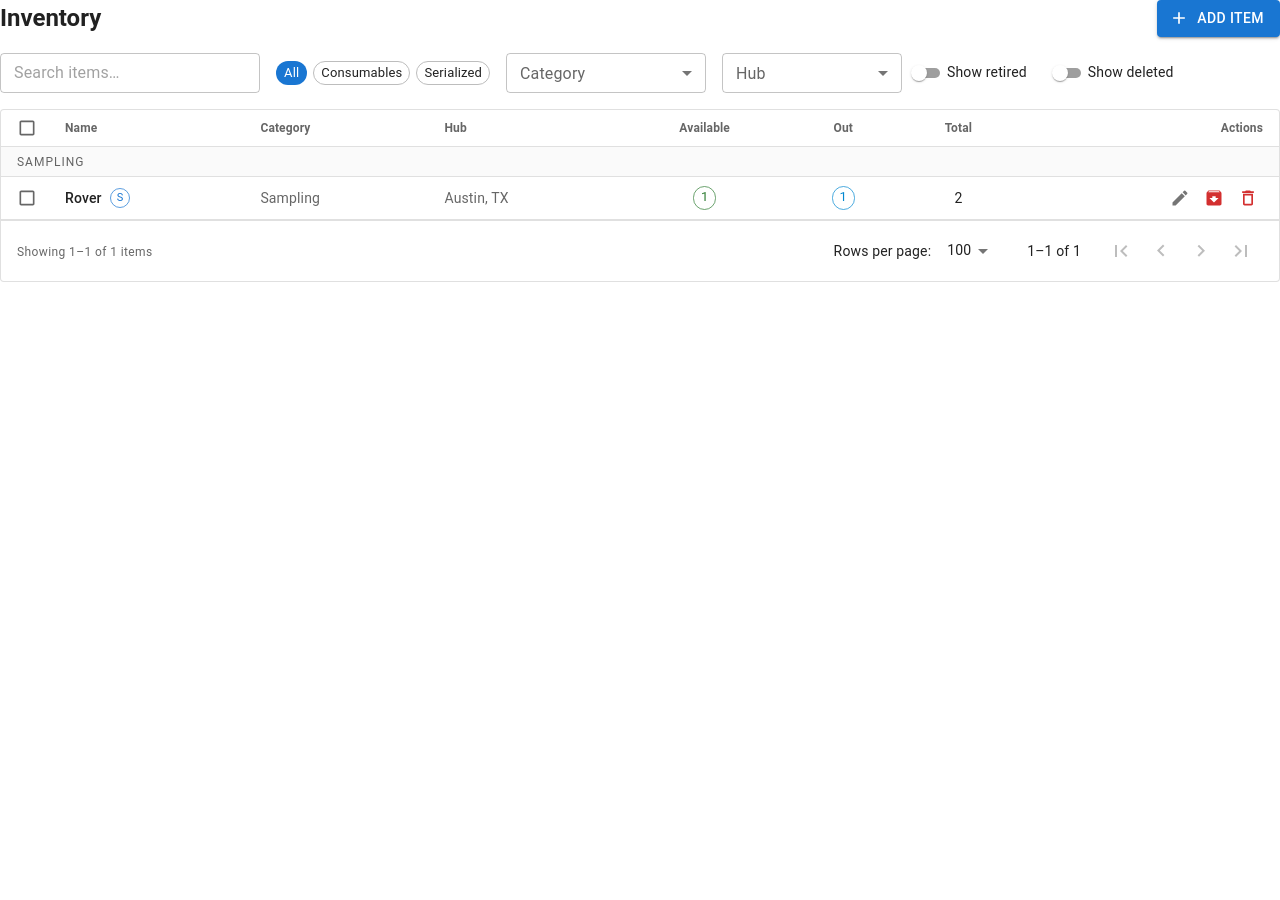
Test: item retire (D-a · the BF-1 flow) › row Retire → confirm copy → PATCH {status: RETIRED} → refetch without includeRetired → toast
Check: the text "Rover" is shown, box [65,188,102,208]
Click the button named "Retire": (1214,198) [1199,183,1229,213]
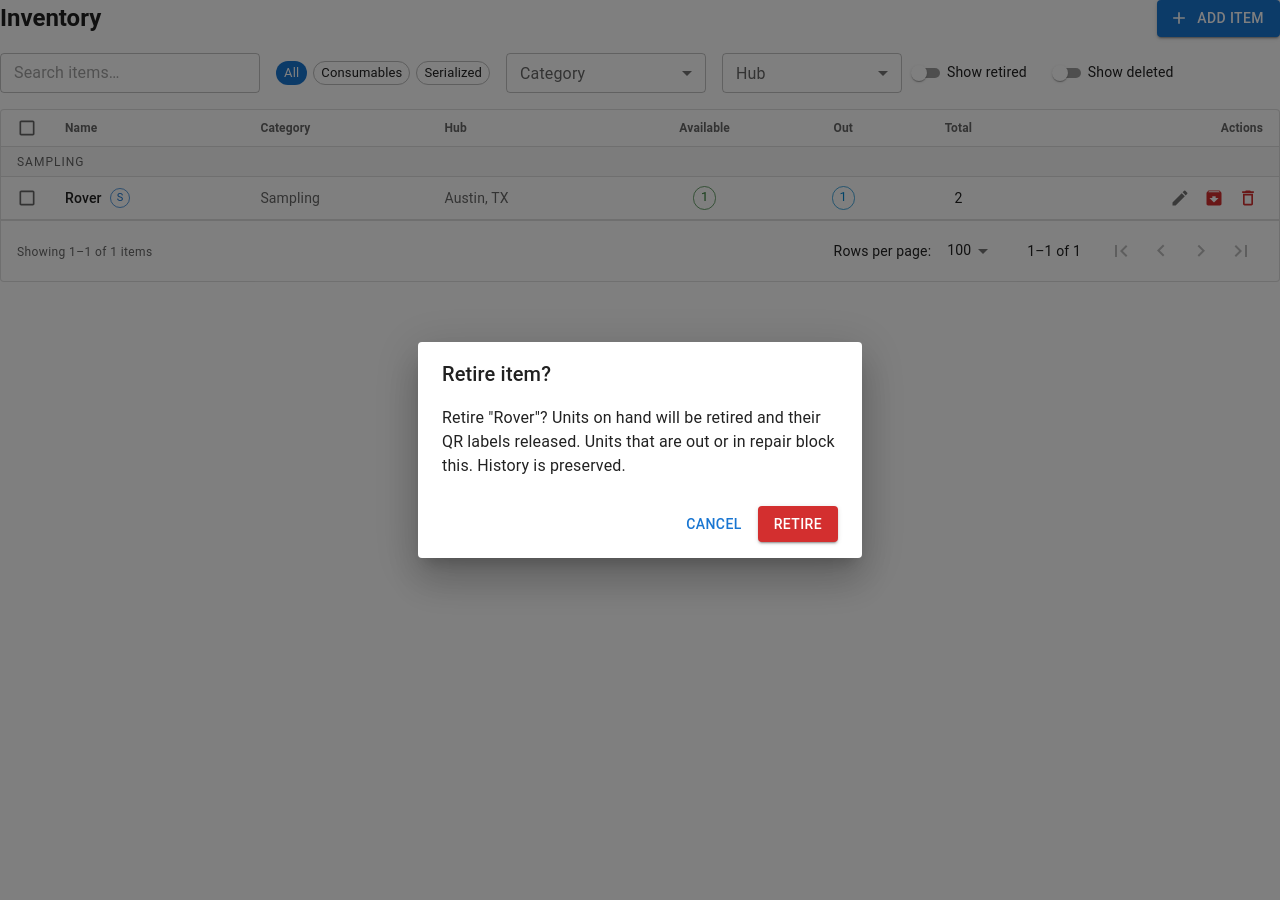
Check: the dialog "Retire item?" shows "Retire \"Rover\"? Units on hand will be retired and their QR labels released. Units that are out or in repair block this. History is preserved.", box [442,408,835,475]
Click the button "Retire": (798,524) [758,506,838,542]
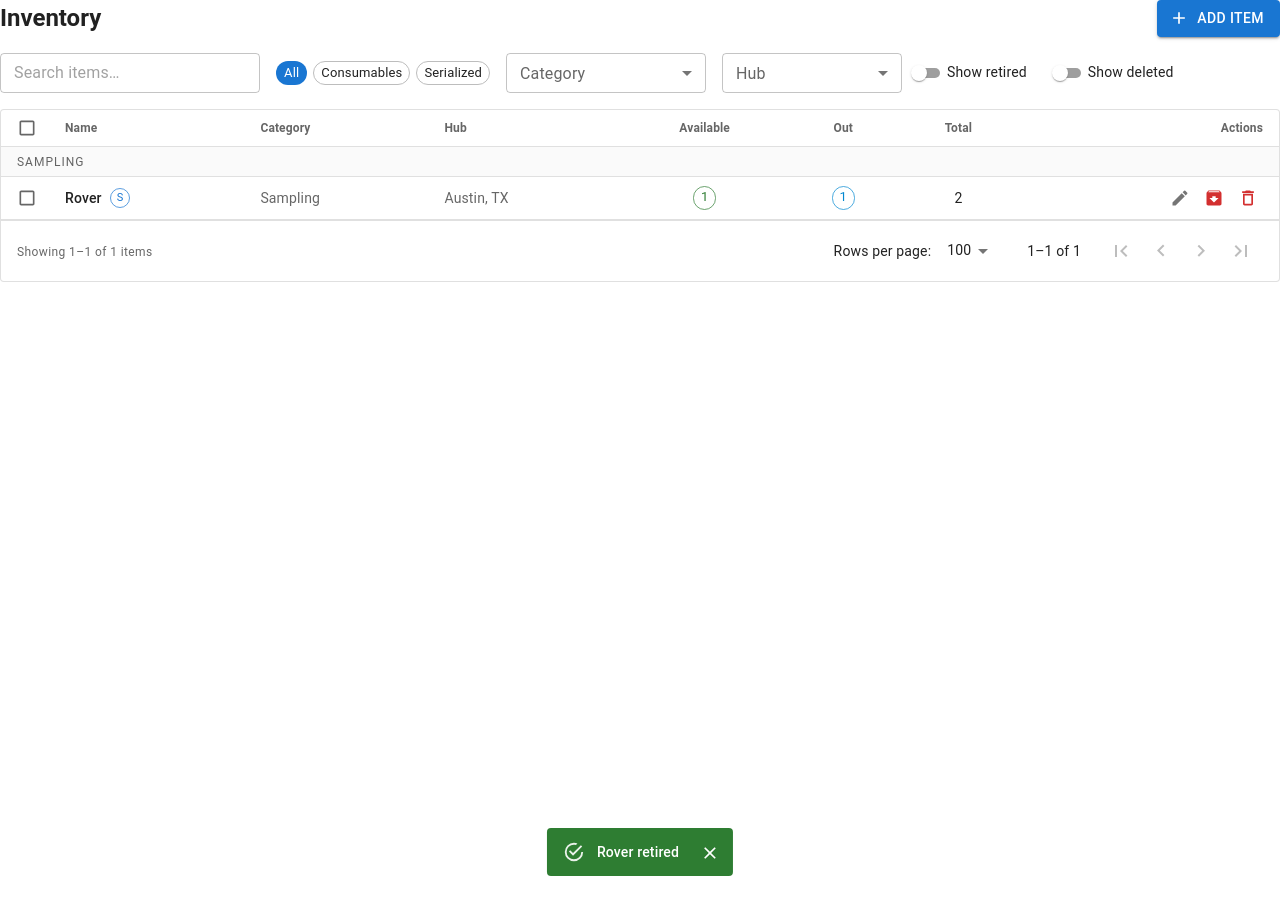
Check: the text "Rover retired" is shown, box [597,844,679,860]
